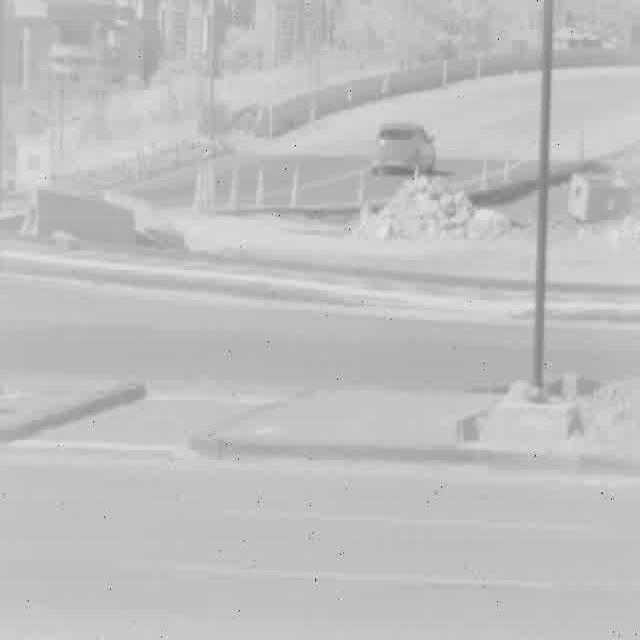Car: (372, 123, 432, 176)
